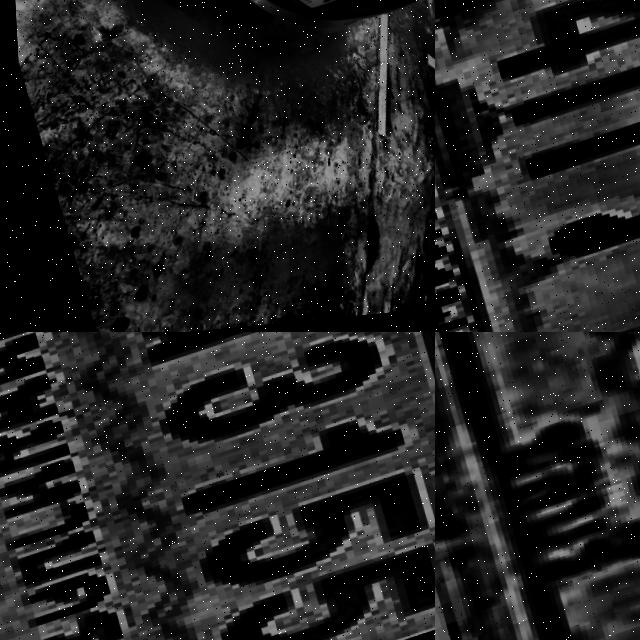license-plate: (0, 332, 435, 640), (435, 0, 640, 332), (435, 332, 640, 640), (256, 0, 344, 31)
